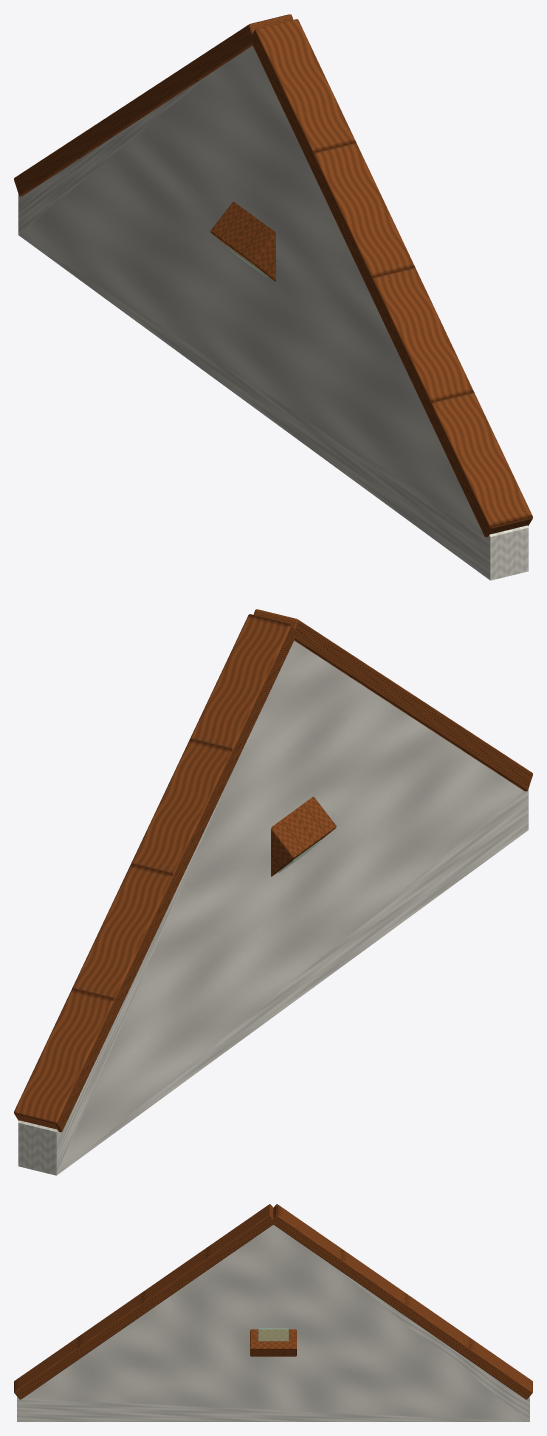
File: witch-cottage-and-apothecary-gable-end-wall-08dd4255__32443.glb
3 views of the same model, one above another, from view 1: azimuth 30°, elevation 25°; view 2: azimuth 150°, elevation 25°; view 3: azimuth 270°, elevation 25° (orthographic). The views are drawn at different scales.
Parts seen in each view (by area): view 1: gable-end-wall; view 2: gable-end-wall; view 3: gable-end-wall.
Boxes of the visible parts, bbox=[...] form: gable-end-wall: bbox=[14, 14, 532, 580]; gable-end-wall: bbox=[14, 609, 532, 1175]; gable-end-wall: bbox=[14, 1204, 532, 1421].
Size of the model in its own units: 0.6192 by 2.68 by 6.07.
3 materials, 2 textured.
